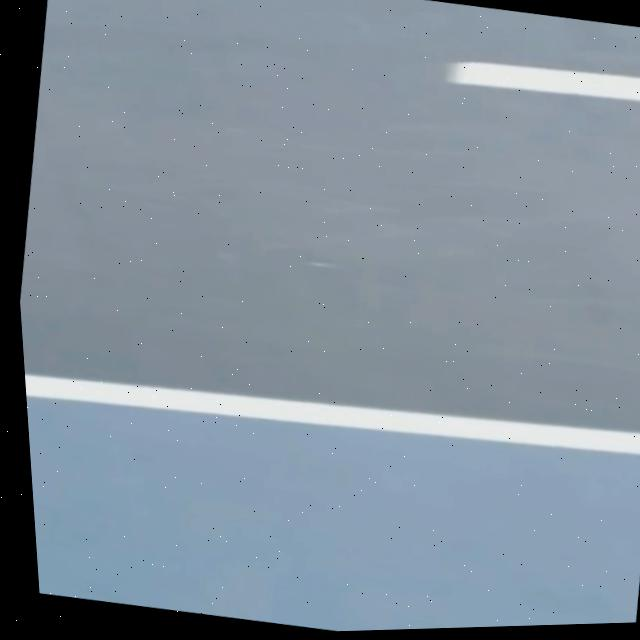center: (446, 63, 640, 102)
left: (25, 375, 640, 455)
